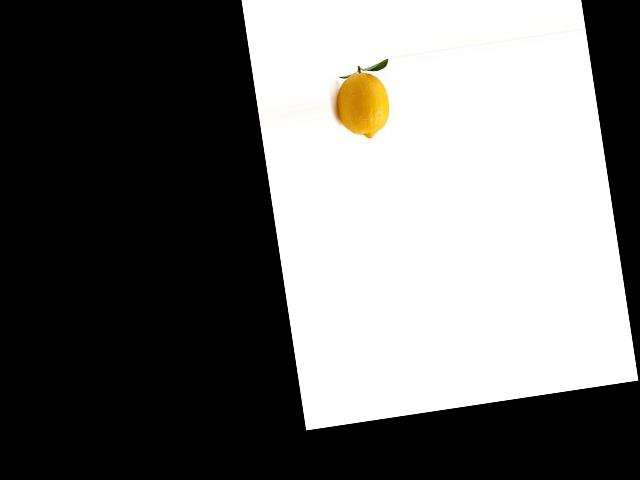lemon: (327, 66, 397, 149)
